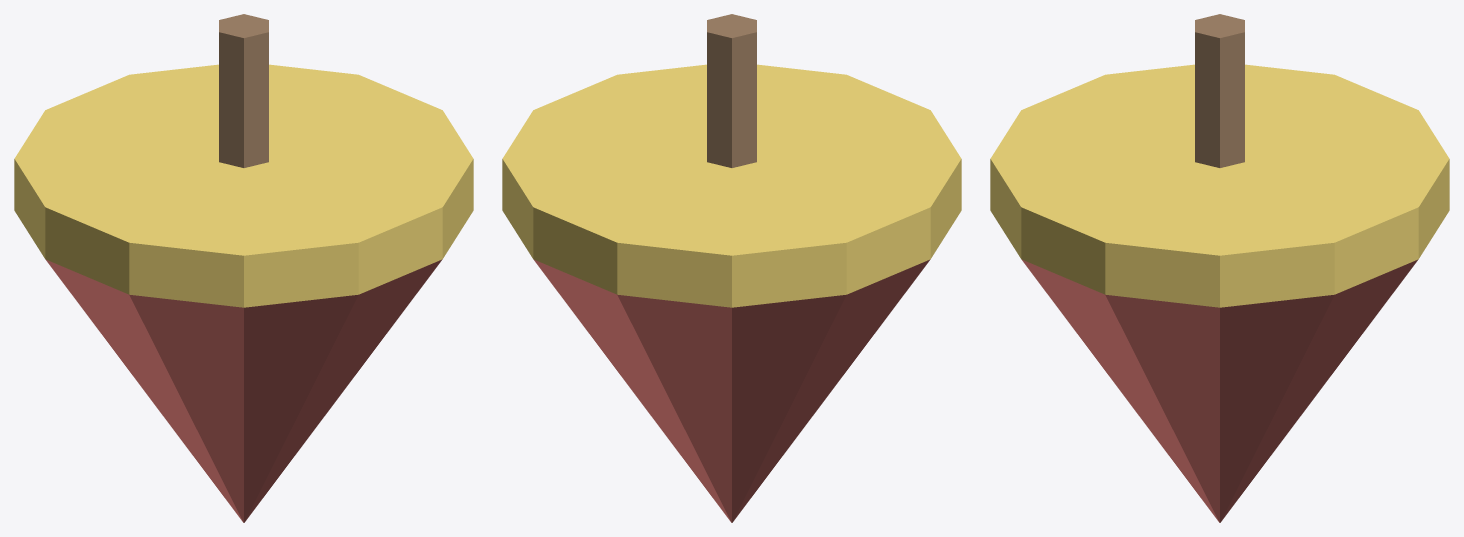
The model's file is trompo.glb.
3 views of the same model, side by side, from view 1: azimuth 30°, elevation 25°; view 2: azimuth 150°, elevation 25°; view 3: azimuth 270°, elevation 25° (orthographic).
Visible parts, largest first — view 1: trompo; view 2: trompo; view 3: trompo.
Part boxes in pixels (x1,y1,x2,y2): trompo: (14, 14, 473, 522); trompo: (502, 14, 961, 522); trompo: (990, 14, 1449, 522).
Bounding box in the file's own units: 0.8 × 0.955 × 0.8.
